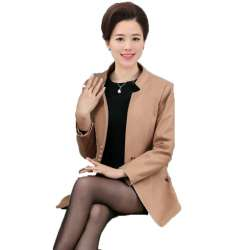F_W_suit jacket: (70, 66, 190, 226)
